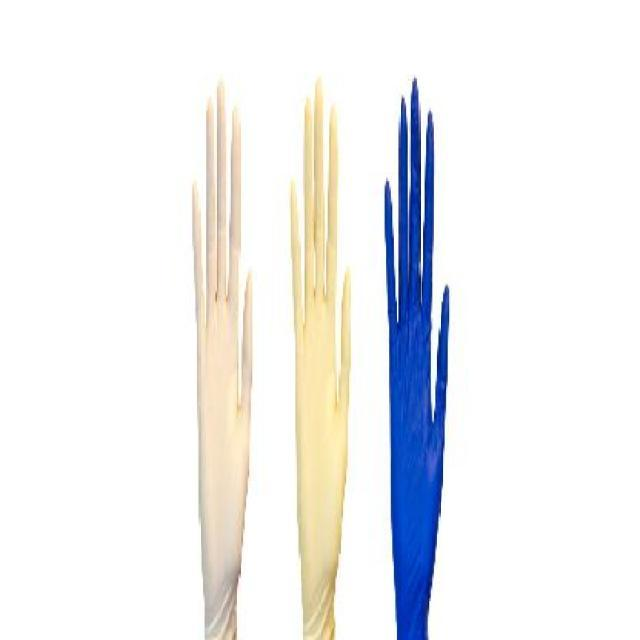glove_hand: (183, 36, 263, 638), (381, 53, 450, 638), (290, 83, 350, 637)
